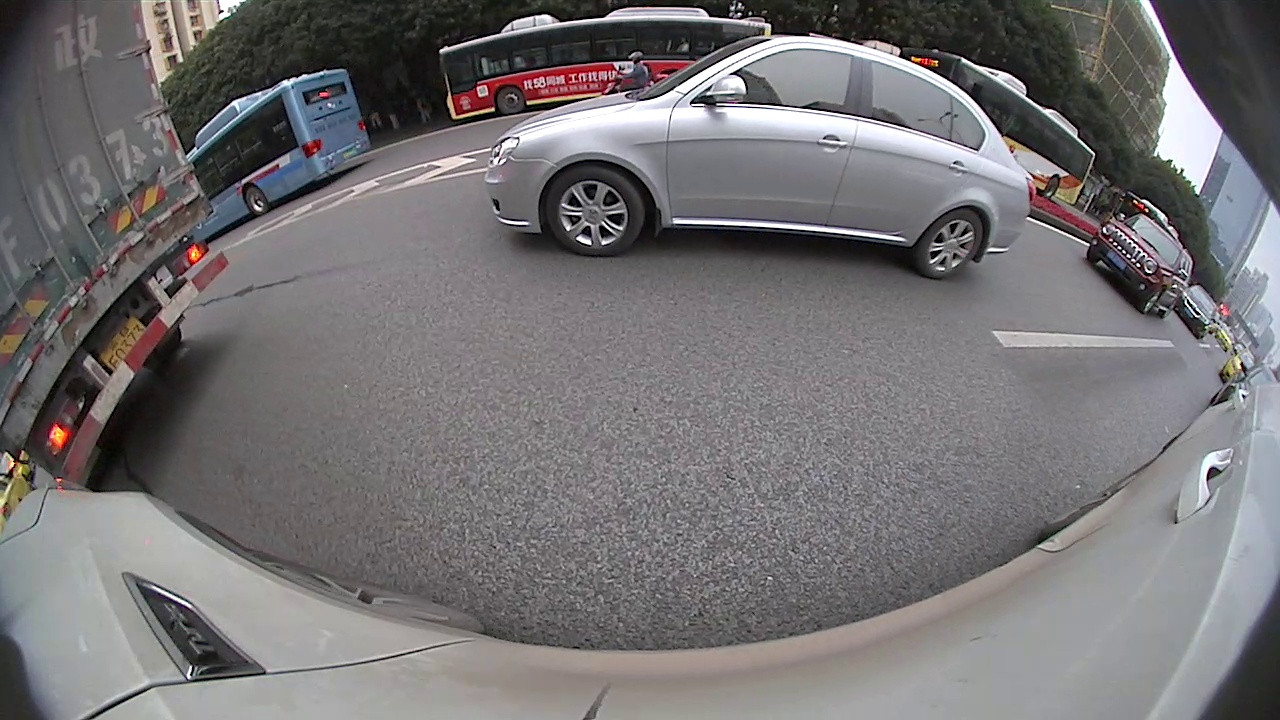bus: (437, 4, 773, 123), (186, 66, 373, 240), (898, 49, 1094, 210)
car: (480, 33, 1038, 284), (1088, 212, 1193, 322), (1176, 290, 1224, 339)
front: (544, 161, 647, 258), (496, 85, 526, 116), (1137, 285, 1164, 315)
rear: (909, 207, 984, 280), (244, 185, 270, 217), (1041, 176, 1060, 200)
truck: (1, 1, 220, 493)
